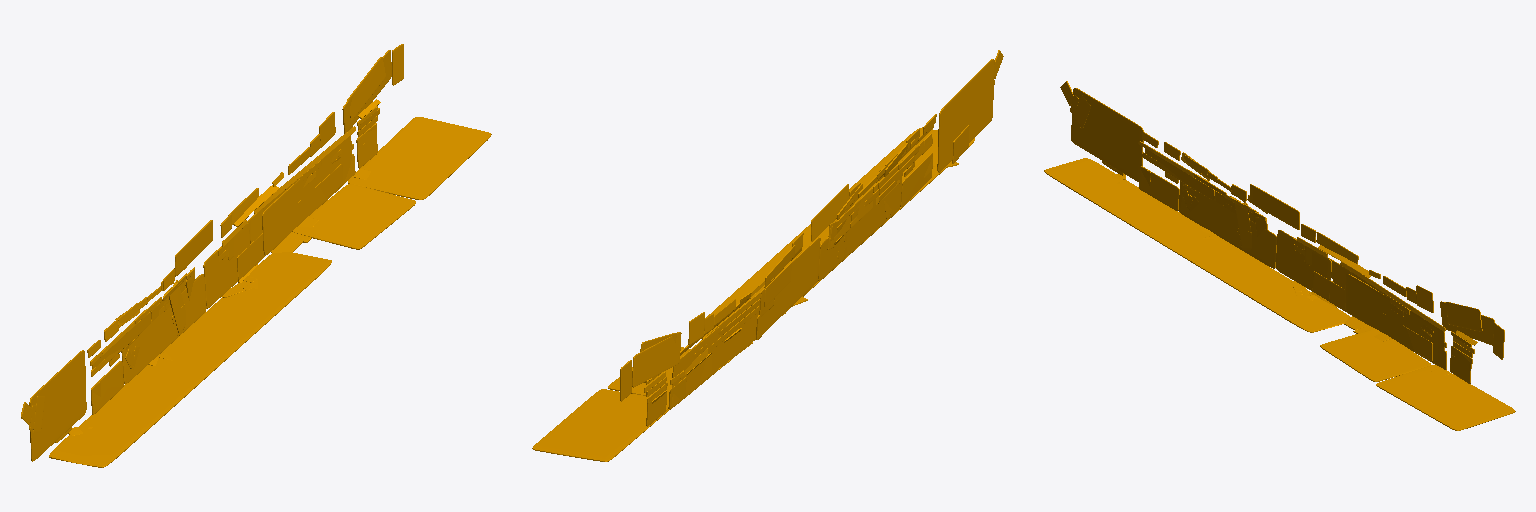
--- Render facts (derived) ---
The picture shows the robot from 3 angles, left to right: view 1: azimuth 30°, elevation 25°; view 2: azimuth 210°, elevation 25°; view 3: azimuth 270°, elevation 25°; orthographic projection.
Model scene with 1 links and 0 joints (none), rooted at scene_link, posed every joint at zero.
Visible links, largest first — view 1: scene_link; view 2: scene_link; view 3: scene_link.
Link boxes in pixels (left/top/right/bottom): scene_link: left=21, top=44, right=491, bottom=467; scene_link: left=532, top=50, right=1003, bottom=461; scene_link: left=1044, top=81, right=1515, bottom=430.
Bounding box of the posed robot: 21.99 × 14.79 × 3.01 m (x, y, z).
Meshes: 110 distinct files referenced, 110 mesh visuals loaded (110 OBJ).

URDF robot description (scene):
<?xml version='1.0' encoding='utf-8'?>
<robot name="scene"><link name="scene_link"><visual><origin xyz="0.000000 0.000000 0.000000" rpy="0.000000 -0.000000 0.000000" /><geometry><mesh filename="part_000.obj" /></geometry></visual><collision><origin xyz="0.000000 0.000000 0.000000" rpy="0.000000 -0.000000 0.000000" /><geometry><mesh filename="part_000.obj" /></geometry></collision><visual><origin xyz="0.000000 0.000000 0.000000" rpy="0.000000 -0.000000 0.000000" /><geometry><mesh filename="part_001.obj" /></geometry></visual><collision><origin xyz="0.000000 0.000000 0.000000" rpy="0.000000 -0.000000 0.000000" /><geometry><mesh filename="part_001.obj" /></geometry></collision><visual><origin xyz="0.000000 0.000000 0.000000" rpy="0.000000 -0.000000 0.000000" /><geometry><mesh filename="part_002.obj" /></geometry></visual><collision><origin xyz="0.000000 0.000000 0.000000" rpy="0.000000 -0.000000 0.000000" /><geometry><mesh filename="part_002.obj" /></geometry></collision><visual><origin xyz="0.000000 0.000000 0.000000" rpy="0.000000 -0.000000 0.000000" /><geometry><mesh filename="part_003.obj" /></geometry></visual><collision><origin xyz="0.000000 0.000000 0.000000" rpy="0.000000 -0.000000 0.000000" /><geometry><mesh filename="part_003.obj" /></geometry></collision><visual><origin xyz="0.000000 0.000000 0.000000" rpy="0.000000 -0.000000 0.000000" /><geometry><mesh filename="part_004.obj" /></geometry></visual><collision><origin xyz="0.000000 0.000000 0.000000" rpy="0.000000 -0.000000 0.000000" /><geometry><mesh filename="part_004.obj" /></geometry></collision><visual><origin xyz="0.000000 0.000000 0.000000" rpy="0.000000 -0.000000 0.000000" /><geometry><mesh filename="part_005.obj" /></geometry></visual><collision><origin xyz="0.000000 0.000000 0.000000" rpy="0.000000 -0.000000 0.000000" /><geometry><mesh filename="part_005.obj" /></geometry></collision><visual><origin xyz="0.000000 0.000000 0.000000" rpy="0.000000 -0.000000 0.000000" /><geometry><mesh filename="part_006.obj" /></geometry></visual><collision><origin xyz="0.000000 0.000000 0.000000" rpy="0.000000 -0.000000 0.000000" /><geometry><mesh filename="part_006.obj" /></geometry></collision><visual><origin xyz="0.000000 0.000000 0.000000" rpy="0.000000 -0.000000 0.000000" /><geometry><mesh filename="part_007.obj" /></geometry></visual><collision><origin xyz="0.000000 0.000000 0.000000" rpy="0.000000 -0.000000 0.000000" /><geometry><mesh filename="part_007.obj" /></geometry></collision><visual><origin xyz="0.000000 0.000000 0.000000" rpy="0.000000 -0.000000 0.000000" /><geometry><mesh filename="part_008.obj" /></geometry></visual><collision><origin xyz="0.000000 0.000000 0.000000" rpy="0.000000 -0.000000 0.000000" /><geometry><mesh filename="part_008.obj" /></geometry></collision><visual><origin xyz="0.000000 0.000000 0.000000" rpy="0.000000 -0.000000 0.000000" /><geometry><mesh filename="part_009.obj" /></geometry></visual><collision><origin xyz="0.000000 0.000000 0.000000" rpy="0.000000 -0.000000 0.000000" /><geometry><mesh filename="part_009.obj" /></geometry></collision><visual><origin xyz="0.000000 0.000000 0.000000" rpy="0.000000 -0.000000 0.000000" /><geometry><mesh filename="part_010.obj" /></geometry></visual><collision><origin xyz="0.000000 0.000000 0.000000" rpy="0.000000 -0.000000 0.000000" /><geometry><mesh filename="part_010.obj" /></geometry></collision><visual><origin xyz="0.000000 0.000000 0.000000" rpy="0.000000 -0.000000 0.000000" /><geometry><mesh filename="part_011.obj" /></geometry></visual><collision><origin xyz="0.000000 0.000000 0.000000" rpy="0.000000 -0.000000 0.000000" /><geometry><mesh filename="part_011.obj" /></geometry></collision><visual><origin xyz="0.000000 0.000000 0.000000" rpy="0.000000 -0.000000 0.000000" /><geometry><mesh filename="part_012.obj" /></geometry></visual><collision><origin xyz="0.000000 0.000000 0.000000" rpy="0.000000 -0.000000 0.000000" /><geometry><mesh filename="part_012.obj" /></geometry></collision><visual><origin xyz="0.000000 0.000000 0.000000" rpy="0.000000 -0.000000 0.000000" /><geometry><mesh filename="part_013.obj" /></geometry></visual><collision><origin xyz="0.000000 0.000000 0.000000" rpy="0.000000 -0.000000 0.000000" /><geometry><mesh filename="part_013.obj" /></geometry></collision><visual><origin xyz="0.000000 0.000000 0.000000" rpy="0.000000 -0.000000 0.000000" /><geometry><mesh filename="part_014.obj" /></geometry></visual><collision><origin xyz="0.000000 0.000000 0.000000" rpy="0.000000 -0.000000 0.000000" /><geometry><mesh filename="part_014.obj" /></geometry></collision><visual><origin xyz="0.000000 0.000000 0.000000" rpy="0.000000 -0.000000 0.000000" /><geometry><mesh filename="part_015.obj" /></geometry></visual><collision><origin xyz="0.000000 0.000000 0.000000" rpy="0.000000 -0.000000 0.000000" /><geometry><mesh filename="part_015.obj" /></geometry></collision><visual><origin xyz="0.000000 0.000000 0.000000" rpy="0.000000 -0.000000 0.000000" /><geometry><mesh filename="part_016.obj" /></geometry></visual><collision><origin xyz="0.000000 0.000000 0.000000" rpy="0.000000 -0.000000 0.000000" /><geometry><mesh filename="part_016.obj" /></geometry></collision><visual><origin xyz="0.000000 0.000000 0.000000" rpy="0.000000 -0.000000 0.000000" /><geometry><mesh filename="part_017.obj" /></geometry></visual><collision><origin xyz="0.000000 0.000000 0.000000" rpy="0.000000 -0.000000 0.000000" /><geometry><mesh filename="part_017.obj" /></geometry></collision><visual><origin xyz="0.000000 0.000000 0.000000" rpy="0.000000 -0.000000 0.000000" /><geometry><mesh filename="part_018.obj" /></geometry></visual><collision><origin xyz="0.000000 0.000000 0.000000" rpy="0.000000 -0.000000 0.000000" /><geometry><mesh filename="part_018.obj" /></geometry></collision><visual><origin xyz="0.000000 0.000000 0.000000" rpy="0.000000 -0.000000 0.000000" /><geometry><mesh filename="part_019.obj" /></geometry></visual><collision><origin xyz="0.000000 0.000000 0.000000" rpy="0.000000 -0.000000 0.000000" /><geometry><mesh filename="part_019.obj" /></geometry></collision><visual><origin xyz="0.000000 0.000000 0.000000" rpy="0.000000 -0.000000 0.000000" /><geometry><mesh filename="part_020.obj" /></geometry></visual><collision><origin xyz="0.000000 0.000000 0.000000" rpy="0.000000 -0.000000 0.000000" /><geometry><mesh filename="part_020.obj" /></geometry></collision><visual><origin xyz="0.000000 0.000000 0.000000" rpy="0.000000 -0.000000 0.000000" /><geometry><mesh filename="part_021.obj" /></geometry></visual><collision><origin xyz="0.000000 0.000000 0.000000" rpy="0.000000 -0.000000 0.000000" /><geometry><mesh filename="part_021.obj" /></geometry></collision><visual><origin xyz="0.000000 0.000000 0.000000" rpy="0.000000 -0.000000 0.000000" /><geometry><mesh filename="part_022.obj" /></geometry></visual><collision><origin xyz="0.000000 0.000000 0.000000" rpy="0.000000 -0.000000 0.000000" /><geometry><mesh filename="part_022.obj" /></geometry></collision><visual><origin xyz="0.000000 0.000000 0.000000" rpy="0.000000 -0.000000 0.000000" /><geometry><mesh filename="part_023.obj" /></geometry></visual><collision><origin xyz="0.000000 0.000000 0.000000" rpy="0.000000 -0.000000 0.000000" /><geometry><mesh filename="part_023.obj" /></geometry></collision><visual><origin xyz="0.000000 0.000000 0.000000" rpy="0.000000 -0.000000 0.000000" /><geometry><mesh filename="part_024.obj" /></geometry></visual><collision><origin xyz="0.000000 0.000000 0.000000" rpy="0.000000 -0.000000 0.000000" /><geometry><mesh filename="part_024.obj" /></geometry></collision><visual><origin xyz="0.000000 0.000000 0.000000" rpy="0.000000 -0.000000 0.000000" /><geometry><mesh filename="part_025.obj" /></geometry></visual><collision><origin xyz="0.000000 0.000000 0.000000" rpy="0.000000 -0.000000 0.000000" /><geometry><mesh filename="part_025.obj" /></geometry></collision><visual><origin xyz="0.000000 0.000000 0.000000" rpy="0.000000 -0.000000 0.000000" /><geometry><mesh filename="part_026.obj" /></geometry></visual><collision><origin xyz="0.000000 0.000000 0.000000" rpy="0.000000 -0.000000 0.000000" /><geometry><mesh filename="part_026.obj" /></geometry></collision><visual><origin xyz="0.000000 0.000000 0.000000" rpy="0.000000 -0.000000 0.000000" /><geometry><mesh filename="part_027.obj" /></geometry></visual><collision><origin xyz="0.000000 0.000000 0.000000" rpy="0.000000 -0.000000 0.000000" /><geometry><mesh filename="part_027.obj" /></geometry></collision><visual><origin xyz="0.000000 0.000000 0.000000" rpy="0.000000 -0.000000 0.000000" /><geometry><mesh filename="part_028.obj" /></geometry></visual><collision><origin xyz="0.000000 0.000000 0.000000" rpy="0.000000 -0.000000 0.000000" /><geometry><mesh filename="part_028.obj" /></geometry></collision><visual><origin xyz="0.000000 0.000000 0.000000" rpy="0.000000 -0.000000 0.000000" /><geometry><mesh filename="part_029.obj" /></geometry></visual><collision><origin xyz="0.000000 0.000000 0.000000" rpy="0.000000 -0.000000 0.000000" /><geometry><mesh filename="part_029.obj" /></geometry></collision><visual><origin xyz="0.000000 0.000000 0.000000" rpy="0.000000 -0.000000 0.000000" /><geometry><mesh filename="part_030.obj" /></geometry></visual><collision><origin xyz="0.000000 0.000000 0.000000" rpy="0.000000 -0.000000 0.000000" /><geometry><mesh filename="part_030.obj" /></geometry></collision><visual><origin xyz="0.000000 0.000000 0.000000" rpy="0.000000 -0.000000 0.000000" /><geometry><mesh filename="part_031.obj" /></geometry></visual><collision><origin xyz="0.000000 0.000000 0.000000" rpy="0.000000 -0.000000 0.000000" /><geometry><mesh filename="part_031.obj" /></geometry></collision><visual><origin xyz="0.000000 0.000000 0.000000" rpy="0.000000 -0.000000 0.000000" /><geometry><mesh filename="part_032.obj" /></geometry></visual><collision><origin xyz="0.000000 0.000000 0.000000" rpy="0.000000 -0.000000 0.000000" /><geometry><mesh filename="part_032.obj" /></geometry></collision><visual><origin xyz="0.000000 0.000000 0.000000" rpy="0.000000 -0.000000 0.000000" /><geometry><mesh filename="part_033.obj" /></geometry></visual><collision><origin xyz="0.000000 0.000000 0.000000" rpy="0.000000 -0.000000 0.000000" /><geometry><mesh filename="part_033.obj" /></geometry></collision><visual><origin xyz="0.000000 0.000000 0.000000" rpy="0.000000 -0.000000 0.000000" /><geometry><mesh filename="part_034.obj" /></geometry></visual><collision><origin xyz="0.000000 0.000000 0.000000" rpy="0.000000 -0.000000 0.000000" /><geometry><mesh filename="part_034.obj" /></geometry></collision><visual><origin xyz="0.000000 0.000000 0.000000" rpy="0.000000 -0.000000 0.000000" /><geometry><mesh filename="part_035.obj" /></geometry></visual><collision><origin xyz="0.000000 0.000000 0.000000" rpy="0.000000 -0.000000 0.000000" /><geometry><mesh filename="part_035.obj" /></geometry></collision><visual><origin xyz="0.000000 0.000000 0.000000" rpy="0.000000 -0.000000 0.000000" /><geometry><mesh filename="part_036.obj" /></geometry></visual><collision><origin xyz="0.000000 0.000000 0.000000" rpy="0.000000 -0.000000 0.000000" /><geometry><mesh filename="part_036.obj" /></geometry></collision><visual><origin xyz="0.000000 0.000000 0.000000" rpy="0.000000 -0.000000 0.000000" /><geometry><mesh filename="part_037.obj" /></geometry></visual><collision><origin xyz="0.000000 0.000000 0.000000" rpy="0.000000 -0.000000 0.000000" /><geometry><mesh filename="part_037.obj" /></geometry></collision><visual><origin xyz="0.000000 0.000000 0.000000" rpy="0.000000 -0.000000 0.000000" /><geometry><mesh filename="part_038.obj" /></geometry></visual><collision><origin xyz="0.000000 0.000000 0.000000" rpy="0.000000 -0.000000 0.000000" /><geometry><mesh filename="part_038.obj" /></geometry></collision><visual><origin xyz="0.000000 0.000000 0.000000" rpy="0.000000 -0.000000 0.000000" /><geometry><mesh filename="part_039.obj" /></geometry></visual><collision><origin xyz="0.000000 0.000000 0.000000" rpy="0.000000 -0.000000 0.000000" /><geometry><mesh filename="part_039.obj" /></geometry></collision><visual><origin xyz="0.000000 0.000000 0.000000" rpy="0.000000 -0.000000 0.000000" /><geometry><mesh filename="part_040.obj" /></geometry></visual><collision><origin xyz="0.000000 0.000000 0.000000" rpy="0.000000 -0.000000 0.000000" /><geometry><mesh filename="part_040.obj" /></geometry></collision><visual><origin xyz="0.000000 0.000000 0.000000" rpy="0.000000 -0.000000 0.000000" /><geometry><mesh filename="part_041.obj" /></geometry></visual><collision><origin xyz="0.000000 0.000000 0.000000" rpy="0.000000 -0.000000 0.000000" /><geometry><mesh filename="part_041.obj" /></geometry></collision><visual><origin xyz="0.000000 0.000000 0.000000" rpy="0.000000 -0.000000 0.000000" /><geometry><mesh filename="part_042.obj" /></geometry></visual><collision><origin xyz="0.000000 0.000000 0.000000" rpy="0.000000 -0.000000 0.000000" /><geometry><mesh filename="part_042.obj" /></geometry></collision><visual><origin xyz="0.000000 0.000000 0.000000" rpy="0.000000 -0.000000 0.000000" /><geometry><mesh filename="part_043.obj" /></geometry></visual><collision><origin xyz="0.000000 0.000000 0.000000" rpy="0.000000 -0.000000 0.000000" /><geometry><mesh filename="part_043.obj" /></geometry></collision><visual><origin xyz="0.000000 0.000000 0.000000" rpy="0.000000 -0.000000 0.000000" /><geometry><mesh filename="part_044.obj" /></geometry></visual><collision><origin xyz="0.000000 0.000000 0.000000" rpy="0.000000 -0.000000 0.000000" /><geometry><mesh filename="part_044.obj" /></geometry></collision><visual><origin xyz="0.000000 0.000000 0.000000" rpy="0.000000 -0.000000 0.000000" /><geometry><mesh filename="part_045.obj" /></geometry></visual><collision><origin xyz="0.000000 0.000000 0.000000" rpy="0.000000 -0.000000 0.000000" /><geometry><mesh filename="part_045.obj" /></geometry></collision><visual><origin xyz="0.000000 0.000000 0.000000" rpy="0.000000 -0.000000 0.000000" /><geometry><mesh filename="part_046.obj" /></geometry></visual><collision><origin xyz="0.000000 0.000000 0.000000" rpy="0.000000 -0.000000 0.000000" /><geometry><mesh filename="part_046.obj" /></geometry></collision><visual><origin xyz="0.000000 0.000000 0.000000" rpy="0.000000 -0.000000 0.000000" /><geometry><mesh filename="part_047.obj" /></geometry></visual><collision><origin xyz="0.000000 0.000000 0.000000" rpy="0.000000 -0.000000 0.000000" /><geometry><mesh filename="part_047.obj" /></geometry></collision><visual><origin xyz="0.000000 0.000000 0.000000" rpy="0.000000 -0.000000 0.000000" /><geometry><mesh filename="part_048.obj" /></geometry></visual><collision><origin xyz="0.000000 0.000000 0.000000" rpy="0.000000 -0.000000 0.000000" /><geometry><mesh filename="part_048.obj" /></geometry></collision><visual><origin xyz="0.000000 0.000000 0.000000" rpy="0.000000 -0.000000 0.000000" /><geometry><mesh filename="part_049.obj" /></geometry></visual><collision><origin xyz="0.000000 0.000000 0.000000" rpy="0.000000 -0.000000 0.000000" /><geometry><mesh filename="part_049.obj" /></geometry></collision><visual><origin xyz="0.000000 0.000000 0.000000" rpy="0.000000 -0.000000 0.000000" /><geometry><mesh filename="part_050.obj" /></geometry></visual><collision><origin xyz="0.000000 0.000000 0.000000" rpy="0.000000 -0.000000 0.000000" /><geometry><mesh filename="part_050.obj" /></geometry></collision><visual><origin xyz="0.000000 0.000000 0.000000" rpy="0.000000 -0.000000 0.000000" /><geometry><mesh filename="part_051.obj" /></geometry></visual><collision><origin xyz="0.000000 0.000000 0.000000" rpy="0.000000 -0.000000 0.000000" /><geometry><mesh filename="part_051.obj" /></geometry></collision><visual><origin xyz="0.000000 0.000000 0.000000" rpy="0.000000 -0.000000 0.000000" /><geometry><mesh filename="part_052.obj" /></geometry></visual><collision><origin xyz="0.000000 0.000000 0.000000" rpy="0.000000 -0.000000 0.000000" /><geometry><mesh filename="part_052.obj" /></geometry></collision><visual><origin xyz="0.000000 0.000000 0.000000" rpy="0.000000 -0.000000 0.000000" /><geometry><mesh filename="part_053.obj" /></geometry></visual><collision><origin xyz="0.000000 0.000000 0.000000" rpy="0.000000 -0.000000 0.000000" /><geometry><mesh filename="part_053.obj" /></geometry></collision><visual><origin xyz="0.000000 0.000000 0.000000" rpy="0.000000 -0.000000 0.000000" /><geometry><mesh filename="part_054.obj" /></geometry></visual><collision><origin xyz="0.000000 0.000000 0.000000" rpy="0.000000 -0.000000 0.000000" /><geometry><mesh filename="part_054.obj" /></geometry></collision><visual><origin xyz="0.000000 0.000000 0.000000" rpy="0.000000 -0.000000 0.000000" /><geometry><mesh filename="part_055.obj" /></geometry></visual><collision><origin xyz="0.000000 0.000000 0.000000" rpy="0.000000 -0.000000 0.000000" /><geometry><mesh filename="part_055.obj" /></geometry></collision><visual><origin xyz="0.000000 0.000000 0.000000" rpy="0.000000 -0.000000 0.000000" /><geometry><mesh filename="part_056.obj" /></geometry></visual><collision><origin xyz="0.000000 0.000000 0.000000" rpy="0.000000 -0.000000 0.000000" /><geometry><mesh filename="part_056.obj" /></geometry></collision><visual><origin xyz="0.000000 0.000000 0.000000" rpy="0.000000 -0.000000 0.000000" /><geometry><mesh filename="part_057.obj" /></geometry></visual><collision><origin xyz="0.000000 0.000000 0.000000" rpy="0.000000 -0.000000 0.000000" /><geometry><mesh filename="part_057.obj" /></geometry></collision><visual><origin xyz="0.000000 0.000000 0.000000" rpy="0.000000 -0.000000 0.000000" /><geometry><mesh filename="part_058.obj" /></geometry></visual><collision><origin xyz="0.000000 0.000000 0.000000" rpy="0.000000 -0.000000 0.000000" /><geometry><mesh filename="part_058.obj" /></geometry></collision><visual><origin xyz="0.000000 0.000000 0.000000" rpy="0.000000 -0.000000 0.000000" /><geometry><mesh filename="part_059.obj" /></geometry></visual><collision><origin xyz="0.000000 0.000000 0.000000" rpy="0.000000 -0.000000 0.000000" /><geometry><mesh filename="part_059.obj" /></geometry></collision><visual><origin xyz="0.000000 0.000000 0.000000" rpy="0.000000 -0.000000 0.000000" /><geometry><mesh filename="part_060.obj" /></geometry></visual><collision><origin xyz="0.000000 0.000000 0.000000" rpy="0.000000 -0.000000 0.000000" /><geometry><mesh filename="part_060.obj" /></geometry></collision><visual><origin xyz="0.000000 0.000000 0.000000" rpy="0.000000 -0.000000 0.000000" /><geometry><mesh filename="part_061.obj" /></geometry></visual><collision><origin xyz="0.000000 0.000000 0.000000" rpy="0.000000 -0.000000 0.000000" /><geometry><mesh filename="part_061.obj" /></geometry></collision><visual><origin xyz="0.000000 0.000000 0.000000" rpy="0.000000 -0.000000 0.000000" /><geometry><mesh filename="part_062.obj" /></geometry></visual><collision><origin xyz="0.000000 0.000000 0.000000" rpy="0.000000 -0.000000 0.000000" /><geometry><mesh filename="part_062.obj" /></geometry></collision><visual><origin xyz="0.000000 0.000000 0.000000" rpy="0.000000 -0.000000 0.000000" /><geometry><mesh filename="part_063.obj" /></geometry></visual><collision><origin xyz="0.000000 0.000000 0.000000" rpy="0.000000 -0.000000 0.000000" /><geometry><mesh filename="part_063.obj" /></geometry></collision><visual><origin xyz="0.000000 0.000000 0.000000" rpy="0.000000 -0.000000 0.000000" /><geometry><mesh filename="part_064.obj" /></geometry></visual><collision><origin xyz="0.000000 0.000000 0.000000" rpy="0.000000 -0.000000 0.000000" /><geometry><mesh filename="part_064.obj" /></geometry></collision><visual><origin xyz="0.000000 0.000000 0.000000" rpy="0.000000 -0.000000 0.000000" /><geometry><mesh filename="part_065.obj" /></geometry></visual><collision><origin xyz="0.000000 0.000000 0.000000" rpy="0.000000 -0.000000 0.000000" /><geometry><mesh filename="part_065.obj" /></geometry></collision><visual><origin xyz="0.000000 0.000000 0.000000" rpy="0.000000 -0.000000 0.000000" /><geometry><mesh filename="part_066.obj" /></geometry></visual><collision><origin xyz="0.000000 0.000000 0.000000" rpy="0.000000 -0.000000 0.000000" /><geometry><mesh filename="part_066.obj" /></geometry></collision><visual><origin xyz="0.000000 0.000000 0.000000" rpy="0.000000 -0.000000 0.000000" /><geometry><mesh filename="part_067.obj" /></geometry></visual><collision><origin xyz="0.000000 0.000000 0.000000" rpy="0.000000 -0.000000 0.000000" /><geometry><mesh filename="part_067.obj" /></geometry></collision><visual><origin xyz="0.000000 0.000000 0.000000" rpy="0.000000 -0.000000 0.000000" /><geometry><mesh filename="part_068.obj" /></geometry></visual><collision><origin xyz="0.000000 0.000000 0.000000" rpy="0.000000 -0.000000 0.000000" /><geometry><mesh filename="part_068.obj" /></geometry></collision><visual><origin xyz="0.000000 0.000000 0.000000" rpy="0.000000 -0.000000 0.000000" /><geometry><mesh filename="part_069.obj" /></geometry></visual><collision><origin xyz="0.000000 0.000000 0.000000" rpy="0.000000 -0.000000 0.000000" /><geometry><mesh filename="part_069.obj" /></geometry></collision><visual><origin xyz="0.000000 0.000000 0.000000" rpy="0.000000 -0.000000 0.000000" /><geometry><mesh filename="part_070.obj" /></geometry></visual><collision><origin xyz="0.000000 0.000000 0.000000" rpy="0.000000 -0.000000 0.000000" /><geometry><mesh filename="part_070.obj" /></geometry></collision><visual><origin xyz="0.000000 0.000000 0.000000" rpy="0.000000 -0.000000 0.000000" /><geometry><mesh filename="part_071.obj" /></geometry></visual><collision><origin xyz="0.000000 0.000000 0.000000" rpy="0.000000 -0.000000 0.000000" /><geometry><mesh filename="part_071.obj" /></geometry></collision><visual><origin xyz="0.000000 0.000000 0.000000" rpy="0.000000 -0.000000 0.000000" /><geometry><mesh filename="part_072.obj" /></geometry></visual><collision><origin xyz="0.000000 0.000000 0.000000" rpy="0.000000 -0.000000 0.000000" /><geometry><mesh filename="part_072.obj" /></geometry></collision><visual><origin xyz="0.000000 0.000000 0.000000" rpy="0.000000 -0.000000 0.000000" /><geometry><mesh filename="part_073.obj" /></geometry></visual><collision><origin xyz="0.000000 0.000000 0.000000" rpy="0.000000 -0.000000 0.000000" /><geometry><mesh filename="part_073.obj" /></geometry></collision><visual><origin xyz="0.000000 0.000000 0.000000" rpy="0.000000 -0.000000 0.000000" /><geometry><mesh filename="part_074.obj" /></geometry></visual><collision><origin xyz="0.000000 0.000000 0.000000" rpy="0.000000 -0.000000 0.000000" /><geometry><mesh filename="part_074.obj" /></geometry></collision><visual><origin xyz="0.000000 0.000000 0.000000" rpy="0.000000 -0.000000 0.000000" /><geometry><mesh filename="part_075.obj" /></geometry></visual><collision><origin xyz="0.000000 0.000000 0.000000" rpy="0.000000 -0.000000 0.000000" /><geometry><mesh filename="part_075.obj" /></geometry></collision><visual><origin xyz="0.000000 0.000000 0.000000" rpy="0.000000 -0.000000 0.000000" /><geometry><mesh filename="part_076.obj" /></geometry></visual><collision><origin xyz="0.000000 0.000000 0.000000" rpy="0.000000 -0.000000 0.000000" /><geometry><mesh filename="part_076.obj" /></geometry></collision><visual><origin xyz="0.000000 0.000000 0.000000" rpy="0.000000 -0.000000 0.000000" /><geometry><mesh filename="part_077.obj" /></geometry></visual><collision><origin xyz="0.000000 0.000000 0.000000" rpy="0.000000 -0.000000 0.000000" /><geometry><mesh filename="part_077.obj" /></geometry></collision><visual><origin xyz="0.000000 0.000000 0.000000" rpy="0.000000 -0.000000 0.000000" /><geometry><mesh filename="part_078.obj" /></geometry></visual><collision><origin xyz="0.000000 0.000000 0.000000" rpy="0.000000 -0.000000 0.000000" /><geometry><mesh filename="part_078.obj" /></geometry></collision><visual><origin xyz="0.000000 0.000000 0.000000" rpy="0.000000 -0.000000 0.000000" /><geometry><mesh filename="part_079.obj" /></geometry></visual><collision><origin xyz="0.000000 0.000000 0.000000" rpy="0.000000 -0.000000 0.000000" /><geometry><mesh filename="part_079.obj" /></geometry></collision><visual><origin xyz="0.000000 0.000000 0.000000" rpy="0.000000 -0.000000 0.000000" /><geometry><mesh filename="part_080.obj" /></geometry></visual><collision><origin xyz="0.000000 0.000000 0.000000" rpy="0.000000 -0.000000 0.000000" /><geometry><mesh filename="part_080.obj" /></geometry></collision><visual><origin xyz="0.000000 0.000000 0.000000" rpy="0.000000 -0.000000 0.000000" /><geometry><mesh filename="part_081.obj" /></geometry></visual><collision><origin xyz="0.000000 0.000000 0.000000" rpy="0.000000 -0.000000 0.000000" /><geometry><mesh filename="part_081.obj" /></geometry></collision><visual><origin xyz="0.000000 0.000000 0.000000" rpy="0.000000 -0.000000 0.000000" /><geometry><mesh filename="part_082.obj" /></geometry></visual><collision><origin xyz="0.000000 0.000000 0.000000" rpy="0.000000 -0.000000 0.000000" /><geometry><mesh filename="part_082.obj" /></geometry></collision><visual><origin xyz="0.000000 0.000000 0.000000" rpy="0.000000 -0.000000 0.000000" /><geometry><mesh filename="part_083.obj" /></geometry></visual><collision><origin xyz="0.000000 0.000000 0.000000" rpy="0.000000 -0.000000 0.000000" /><geometry><mesh filename="part_083.obj" /></geometry></collision><visual><origin xyz="0.000000 0.000000 0.000000" rpy="0.000000 -0.000000 0.000000" /><geometry><mesh filename="part_084.obj" /></geometry></visual><collision><origin xyz="0.000000 0.000000 0.000000" rpy="0.000000 -0.000000 0.000000" /><geometry><mesh filename="part_084.obj" /></geometry></collision><visual><origin xyz="0.000000 0.000000 0.000000" rpy="0.000000 -0.000000 0.000000" /><geometry><mesh filename="part_085.obj" /></geometry></visual><collision><origin xyz="0.000000 0.000000 0.000000" rpy="0.000000 -0.000000 0.000000" /><geometry><mesh filename="part_085.obj" /></geometry></collision><visual><origin xyz="0.000000 0.000000 0.000000" rpy="0.000000 -0.000000 0.000000" /><geometry><mesh filename="part_086.obj" /></geometry></visual><collision><origin xyz="0.000000 0.000000 0.000000" rpy="0.000000 -0.000000 0.000000" /><geometry><mesh filename="part_086.obj" /></geometry></collision><visual><origin xyz="0.000000 0.000000 0.000000" rpy="0.000000 -0.000000 0.000000" /><geometry><mesh filename="part_087.obj" /></geometry></visual><collision><origin xyz="0.000000 0.000000 0.000000" rpy="0.000000 -0.000000 0.000000" /><geometry><mesh filename="part_087.obj" /></geometry></collision><visual><origin xyz="0.000000 0.000000 0.000000" rpy="0.000000 -0.000000 0.000000" /><geometry><mesh filename="part_088.obj" /></geometry></visual><collision><origin xyz="0.000000 0.000000 0.000000" rpy="0.000000 -0.000000 0.000000" /><geometry><mesh filename="part_088.obj" /></geometry></collision><visual><origin xyz="0.000000 0.000000 0.000000" rpy="0.000000 -0.000000 0.000000" /><geometry><mesh filename="part_089.obj" /></geometry></visual><collision><origin xyz="0.000000 0.000000 0.000000" rpy="0.000000 -0.000000 0.000000" /><geometry><mesh filename="part_089.obj" /></geometry></collision><visual><origin xyz="0.000000 0.000000 0.000000" rpy="0.000000 -0.000000 0.000000" /><geometry><mesh filename="part_090.obj" /></geometry></visual><collision><origin xyz="0.000000 0.000000 0.000000" rpy="0.000000 -0.000000 0.000000" /><geometry><mesh filename="part_090.obj" /></geometry></collision><visual><origin xyz="0.000000 0.000000 0.000000" rpy="0.000000 -0.000000 0.000000" /><geometry><mesh filename="part_091.obj" /></geometry></visual><collision><origin xyz="0.000000 0.000000 0.000000" rpy="0.000000 -0.000000 0.000000" /><geometry><mesh filename="part_091.obj" /></geometry></collision><visual><origin xyz="0.000000 0.000000 0.000000" rpy="0.000000 -0.000000 0.000000" /><geometry><mesh filename="part_092.obj" /></geometry></visual><collision><origin xyz="0.000000 0.000000 0.000000" rpy="0.000000 -0.000000 0.000000" /><geometry><mesh filename="part_092.obj" /></geometry></collision><visual><origin xyz="0.000000 0.000000 0.000000" rpy="0.000000 -0.000000 0.000000" /><geometry><mesh filename="part_093.obj" /></geometry></visual><collision><origin xyz="0.000000 0.000000 0.000000" rpy="0.000000 -0.000000 0.000000" /><geometry><mesh filename="part_093.obj" /></geometry></collision><visual><origin xyz="0.000000 0.000000 0.000000" rpy="0.000000 -0.000000 0.000000" /><geometry><mesh filename="part_094.obj" /></geometry></visual><collision><origin xyz="0.000000 0.000000 0.000000" rpy="0.000000 -0.000000 0.000000" /><geometry><mesh filename="part_094.obj" /></geometry></collision><visual><origin xyz="0.000000 0.000000 0.000000" rpy="0.000000 -0.000000 0.000000" /><geometry><mesh filename="part_095.obj" /></geometry></visual><collision><origin xyz="0.000000 0.000000 0.000000" rpy="0.000000 -0.000000 0.000000" /><geometry><mesh filename="part_095.obj" /></geometry></collision><visual><origin xyz="0.000000 0.000000 0.000000" rpy="0.000000 -0.000000 0.000000" /><geometry><mesh filename="part_096.obj" /></geometry></visual><collision><origin xyz="0.000000 0.000000 0.000000" rpy="0.000000 -0.000000 0.000000" /><geometry><mesh filename="part_096.obj" /></geometry></collision><visual><origin xyz="0.000000 0.000000 0.000000" rpy="0.000000 -0.000000 0.000000" /><geometry><mesh filename="part_097.obj" /></geometry></visual><collision><origin xyz="0.000000 0.000000 0.000000" rpy="0.000000 -0.000000 0.000000" /><geometry><mesh filename="part_097.obj" /></geometry></collision><visual><origin xyz="0.000000 0.000000 0.000000" rpy="0.000000 -0.000000 0.000000" /><geometry><mesh filename="part_098.obj" /></geometry></visual><collision><origin xyz="0.000000 0.000000 0.000000" rpy="0.000000 -0.000000 0.000000" /><geometry><mesh filename="part_098.obj" /></geometry></collision><visual><origin xyz="0.000000 0.000000 0.000000" rpy="0.000000 -0.000000 0.000000" /><geometry><mesh filename="part_099.obj" /></geometry></visual><collision><origin xyz="0.000000 0.000000 0.000000" rpy="0.000000 -0.000000 0.000000" /><geometry><mesh filename="part_099.obj" /></geometry></collision><visual><origin xyz="0.000000 0.000000 0.000000" rpy="0.000000 -0.000000 0.000000" /><geometry><mesh filename="part_100.obj" /></geometry></visual><collision><origin xyz="0.000000 0.000000 0.000000" rpy="0.000000 -0.000000 0.000000" /><geometry><mesh filename="part_100.obj" /></geometry></collision><visual><origin xyz="0.000000 0.000000 0.000000" rpy="0.000000 -0.000000 0.000000" /><geometry><mesh filename="part_101.obj" /></geometry></visual><collision><origin xyz="0.000000 0.000000 0.000000" rpy="0.000000 -0.000000 0.000000" /><geometry><mesh filename="part_101.obj" /></geometry></collision><visual><origin xyz="0.000000 0.000000 0.000000" rpy="0.000000 -0.000000 0.000000" /><geometry><mesh filename="part_102.obj" /></geometry></visual><collision><origin xyz="0.000000 0.000000 0.000000" rpy="0.000000 -0.000000 0.000000" /><geometry><mesh filename="part_102.obj" /></geometry></collision><visual><origin xyz="0.000000 0.000000 0.000000" rpy="0.000000 -0.000000 0.000000" /><geometry><mesh filename="part_103.obj" /></geometry></visual><collision><origin xyz="0.000000 0.000000 0.000000" rpy="0.000000 -0.000000 0.000000" /><geometry><mesh filename="part_103.obj" /></geometry></collision><visual><origin xyz="0.000000 0.000000 0.000000" rpy="0.000000 -0.000000 0.000000" /><geometry><mesh filename="part_104.obj" /></geometry></visual><collision><origin xyz="0.000000 0.000000 0.000000" rpy="0.000000 -0.000000 0.000000" /><geometry><mesh filename="part_104.obj" /></geometry></collision><visual><origin xyz="0.000000 0.000000 0.000000" rpy="0.000000 -0.000000 0.000000" /><geometry><mesh filename="part_105.obj" /></geometry></visual><collision><origin xyz="0.000000 0.000000 0.000000" rpy="0.000000 -0.000000 0.000000" /><geometry><mesh filename="part_105.obj" /></geometry></collision><visual><origin xyz="0.000000 0.000000 0.000000" rpy="0.000000 -0.000000 0.000000" /><geometry><mesh filename="part_106.obj" /></geometry></visual><collision><origin xyz="0.000000 0.000000 0.000000" rpy="0.000000 -0.000000 0.000000" /><geometry><mesh filename="part_106.obj" /></geometry></collision><visual><origin xyz="0.000000 0.000000 0.000000" rpy="0.000000 -0.000000 0.000000" /><geometry><mesh filename="part_107.obj" /></geometry></visual><collision><origin xyz="0.000000 0.000000 0.000000" rpy="0.000000 -0.000000 0.000000" /><geometry><mesh filename="part_107.obj" /></geometry></collision><visual><origin xyz="0.000000 0.000000 0.000000" rpy="0.000000 -0.000000 0.000000" /><geometry><mesh filename="part_108.obj" /></geometry></visual><collision><origin xyz="0.000000 0.000000 0.000000" rpy="0.000000 -0.000000 0.000000" /><geometry><mesh filename="part_108.obj" /></geometry></collision><visual><origin xyz="0.000000 0.000000 0.000000" rpy="0.000000 -0.000000 0.000000" /><geometry><mesh filename="part_109.obj" /></geometry></visual><collision><origin xyz="0.000000 0.000000 0.000000" rpy="0.000000 -0.000000 0.000000" /><geometry><mesh filename="part_109.obj" /></geometry></collision></link></robot>
